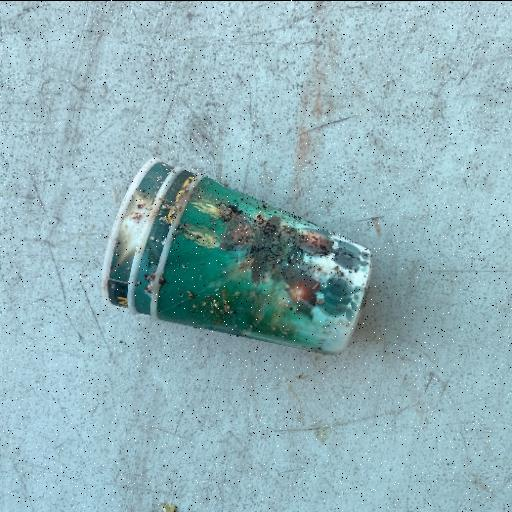Plastic: (99, 154, 375, 358)
